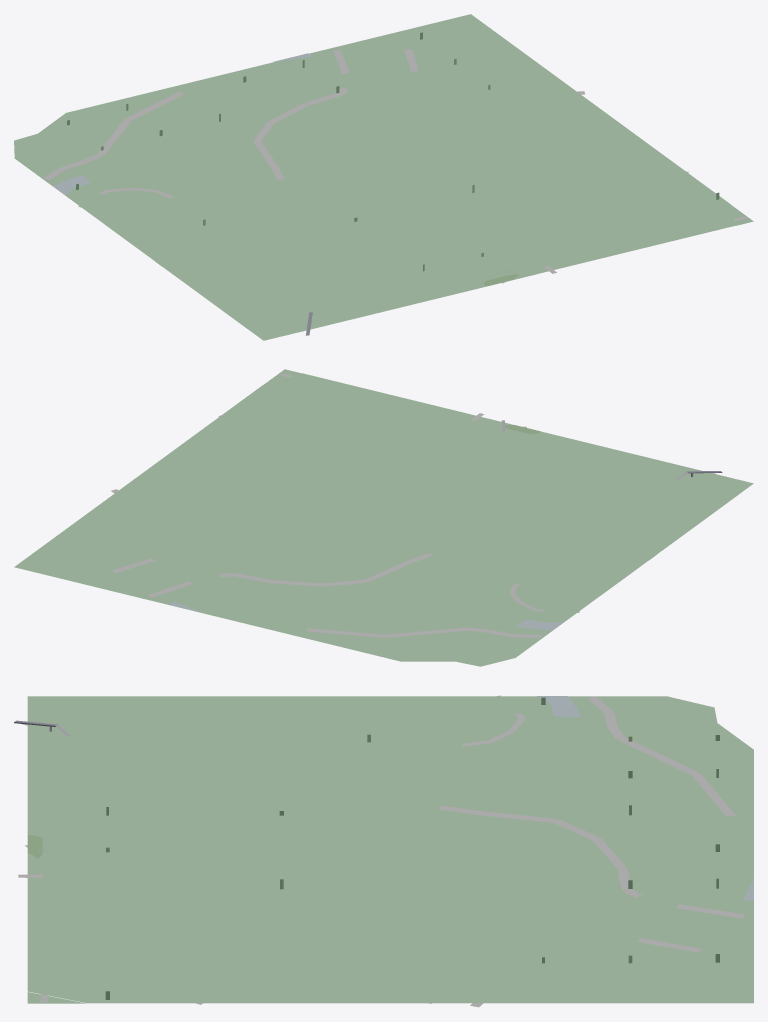
3 renders of one model, top to bottom at view 1: azimuth 30°, elevation 25°; view 2: azimuth 150°, elevation 25°; view 3: azimuth 270°, elevation 25°, orthographic. The views are drawn at different scales.
Size of the model in its own units: 508 by 9.76 by 510.
